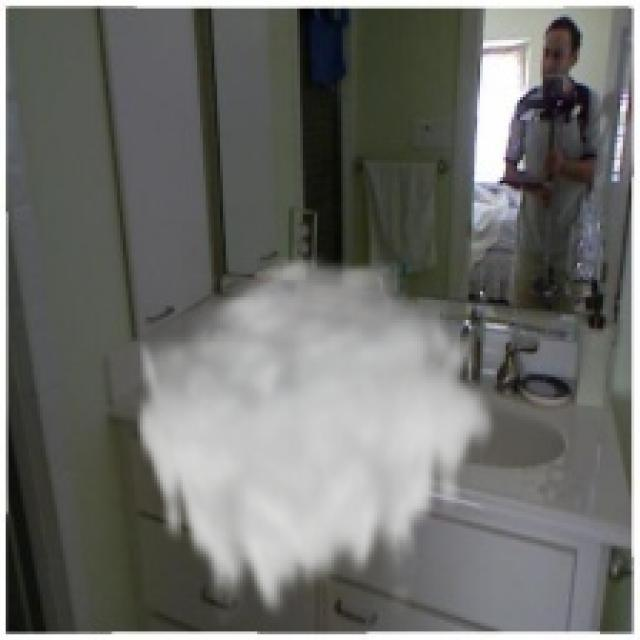Smoke: (131, 248, 500, 628)
